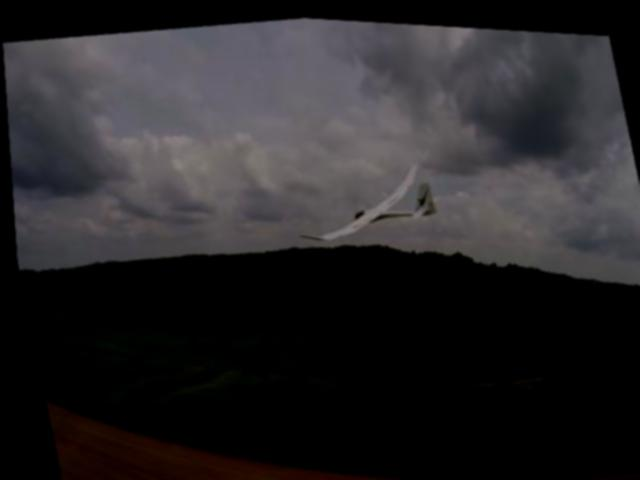uav: (285, 145, 444, 250)
